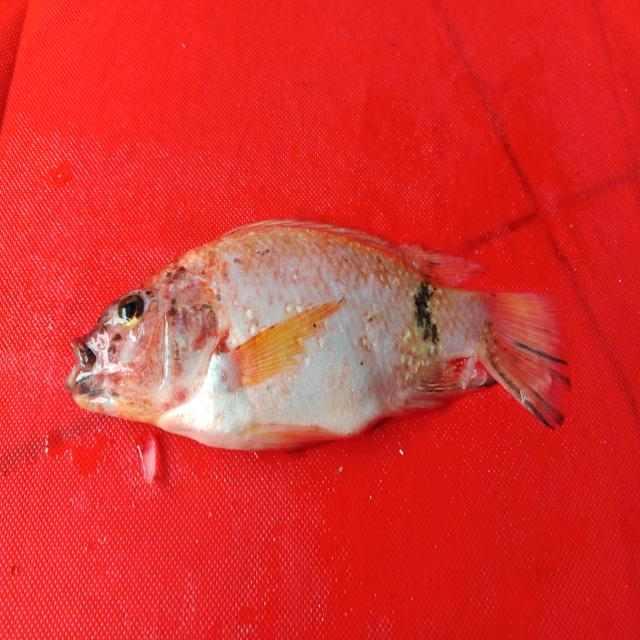ikan: (65, 216, 572, 454)
